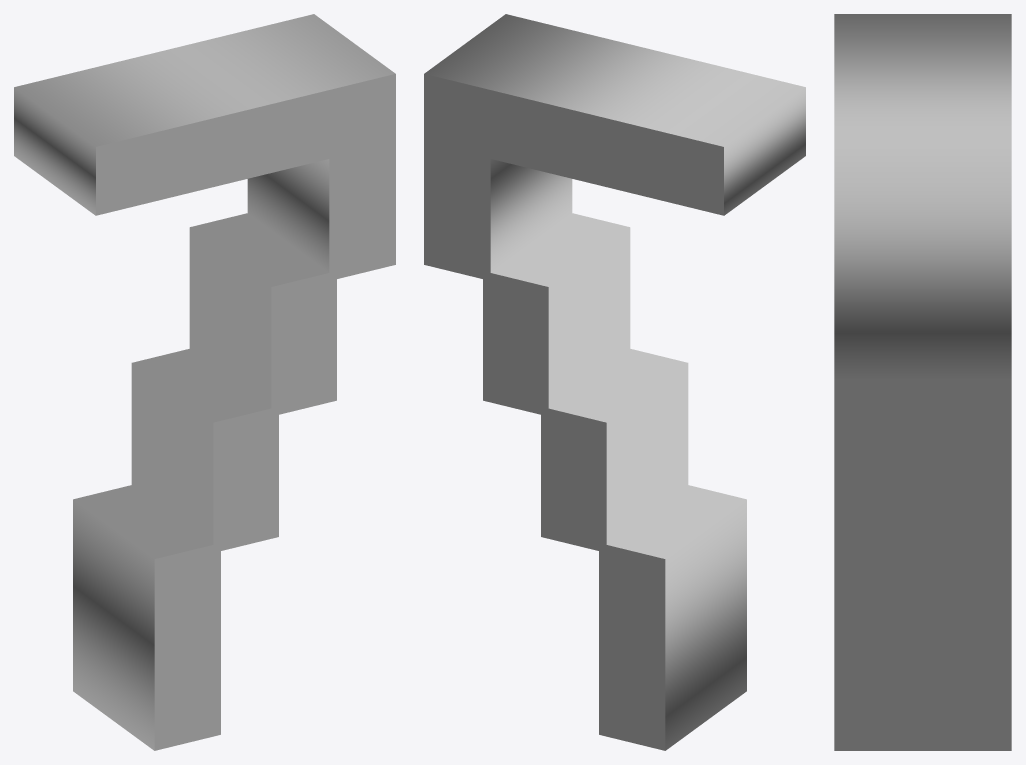
Rendered from number_7.fbx.
The picture shows the model from 3 angles, left to right: view 1: azimuth 30°, elevation 25°; view 2: azimuth 150°, elevation 25°; view 3: azimuth 270°, elevation 25°; orthographic projection. The views are drawn at different scales.
Visible parts, largest first — view 1: 7; view 2: 7; view 3: 7.
Boxes of the visible parts, x1,y1,x2,y2 form: 7: [14, 14, 395, 750]; 7: [424, 14, 805, 750]; 7: [834, 14, 1011, 750].
Bounding box in the file's own units: 84.8 × 167 × 40.
